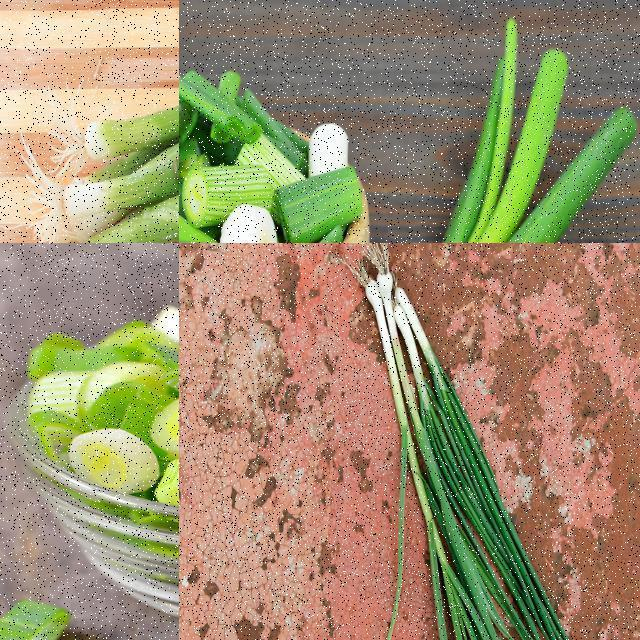green_onion: (358, 256, 573, 640)
